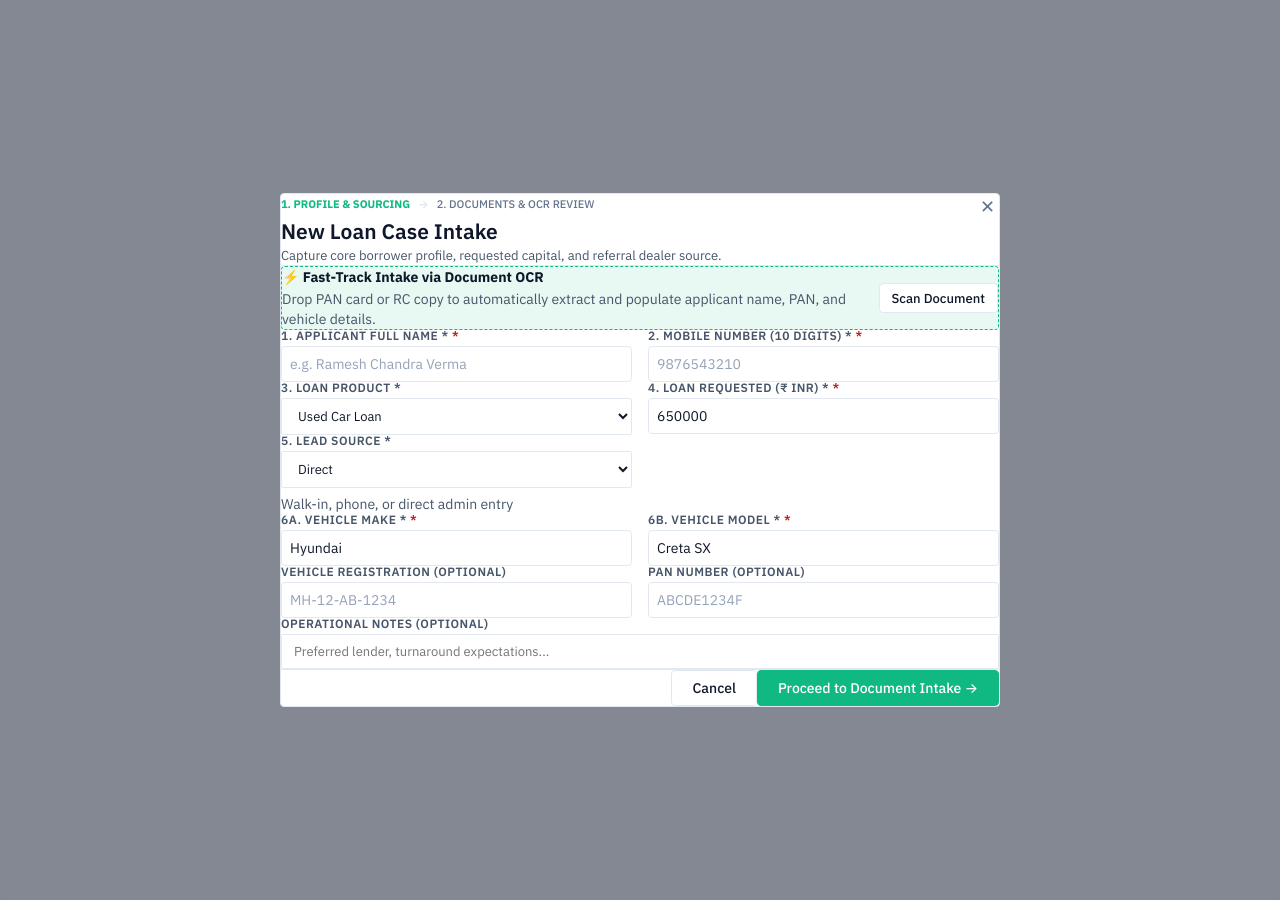
Sidebar Simplification & Quick Lead Intake Updates › 3. CaseCreateModal Source Dropdown › simplifies Lead Source to Direct vs Referral in CaseCreateModal
The image size is (1280, 900).
// When Referral is chosen, partner select appears
Select "Referral" in the dropdown labelled "5. Lead Source *" at {"x": 456, "y": 470}, box [281,451,632,488]
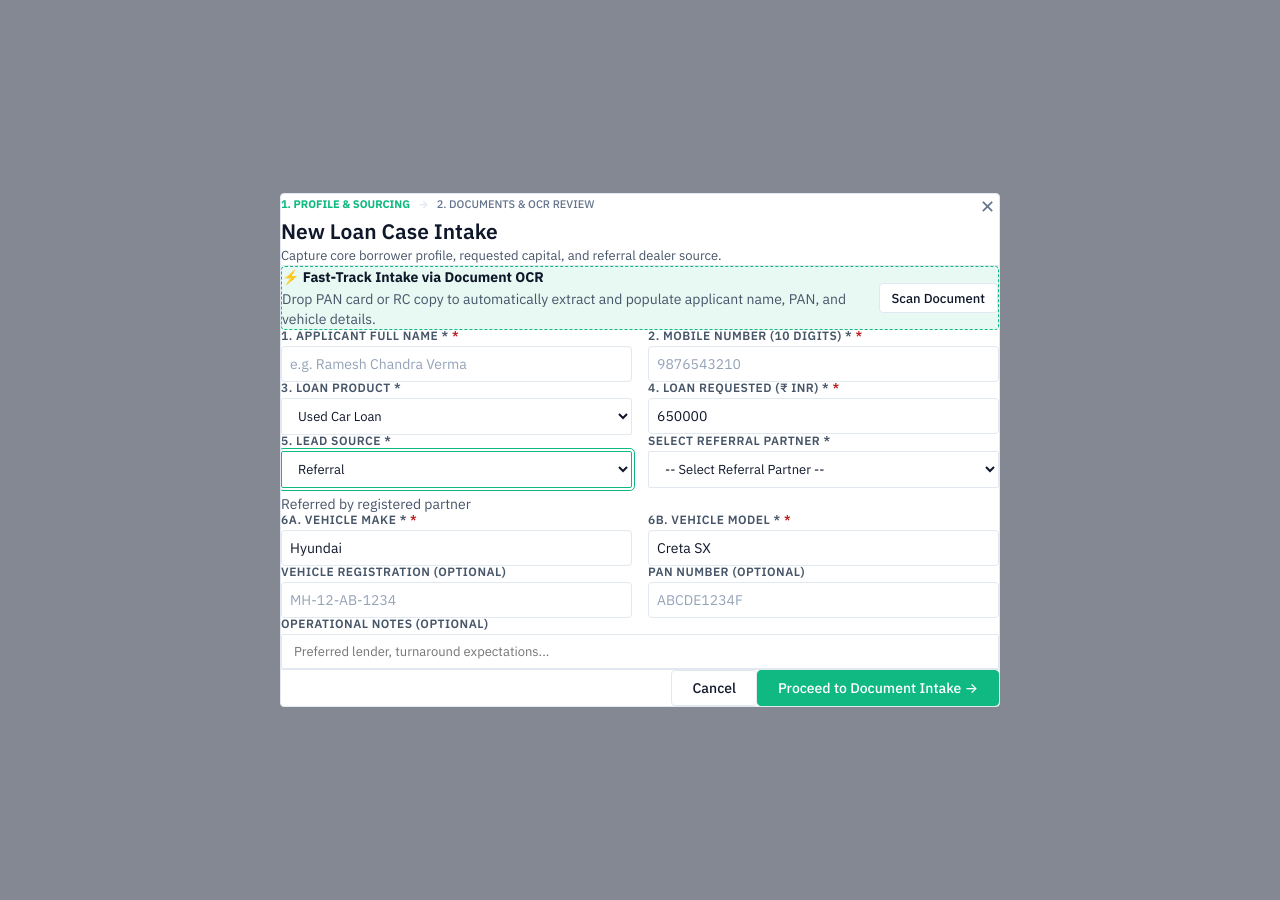
Now the dropdown labelled "Select Referral Partner *" is shown, box [648,451,999,488]
